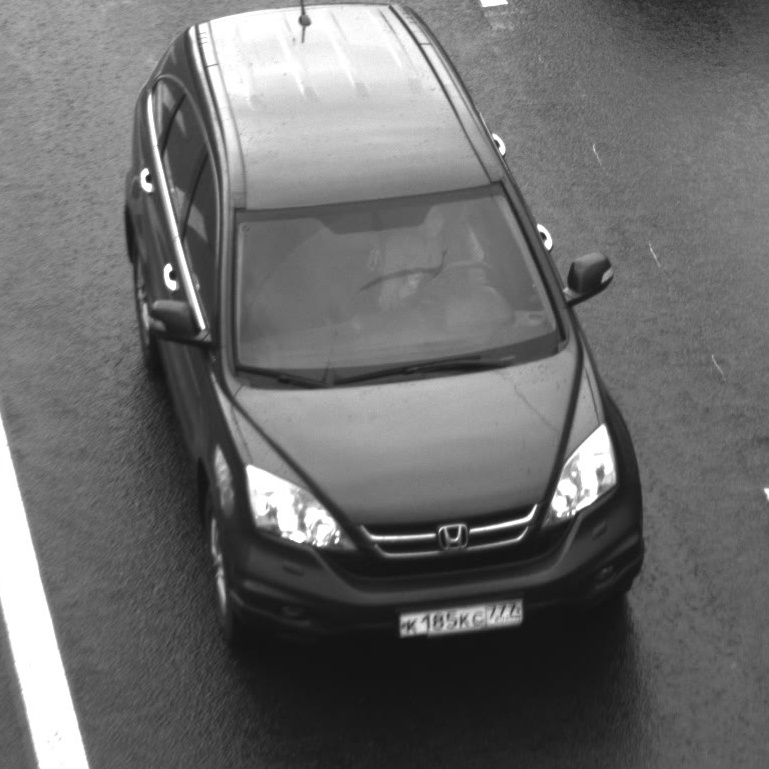plate: (386, 590, 533, 647)
